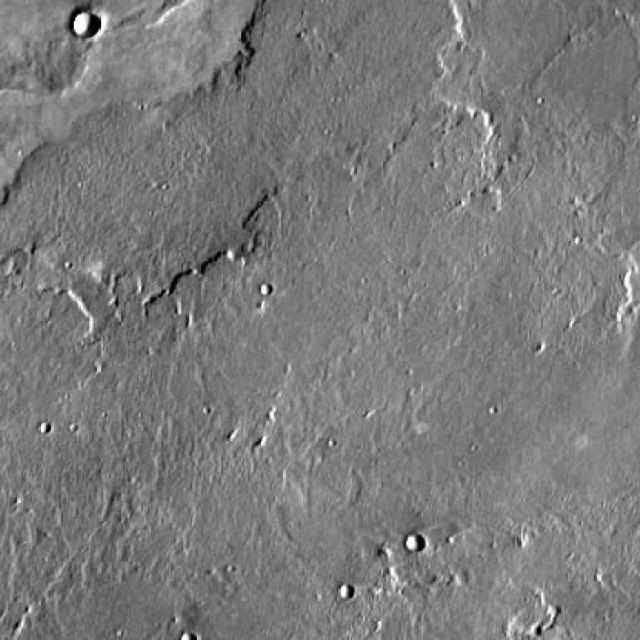crater: (70, 7, 98, 33), (402, 536, 422, 555), (178, 632, 196, 640)
